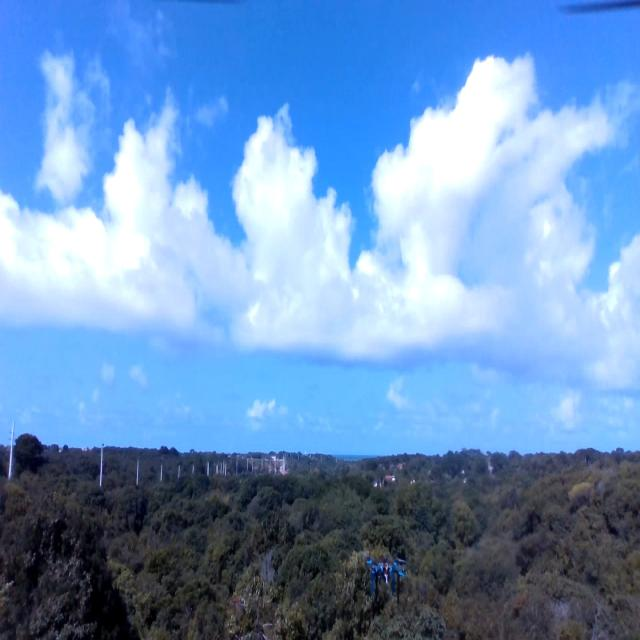-uav-: (362, 547, 410, 606)
